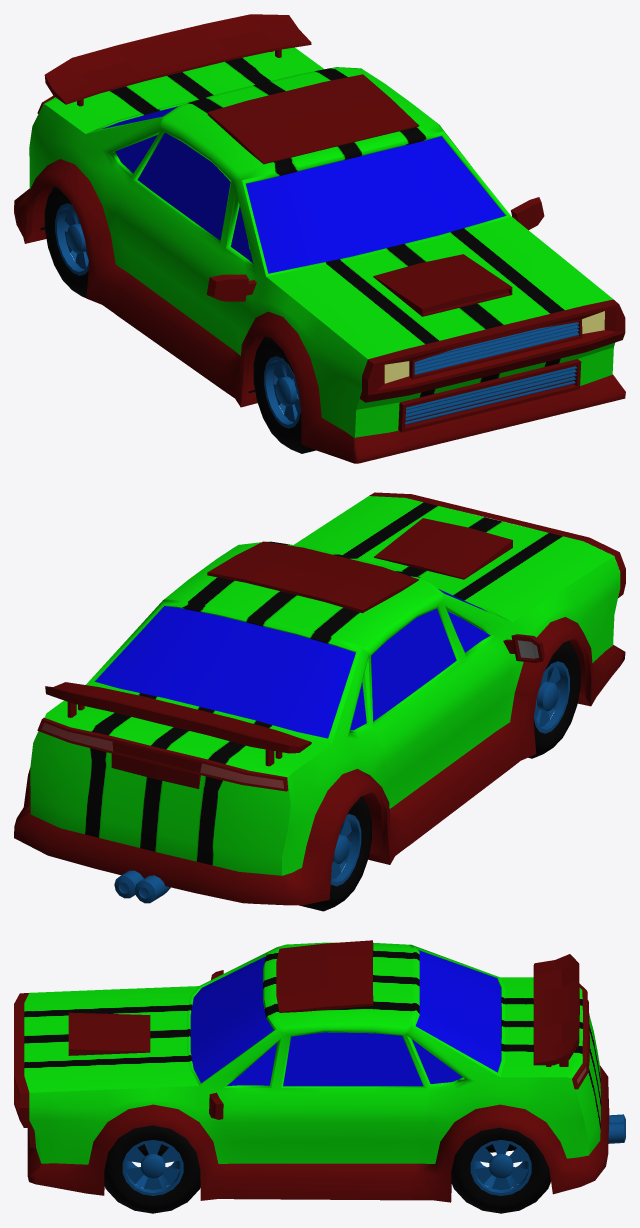
The model's file is Muscle Evolution3 DarkRed TrilineBlackGreen Blue BlueGrey.glb.
3 views of the same model, one above another, from view 1: azimuth 30°, elevation 25°; view 2: azimuth 150°, elevation 25°; view 3: azimuth 270°, elevation 25° (orthographic). The views are drawn at different scales.
Visible parts, largest first — view 1: evo3_body1_f1_dupl, evo3_sill3_f1_dupl, evo3_frontGlass_f1_dupl, evo3_rooftop3_f1_dupl, evo3_spoiler3_f1_dupl, evo3_frontBlockGrid3_f1_dupl, evo3_glasseBigR_f1_dupl, evo3_airtrap_front4_f1_dupl, evo3_blockgrid3_f1_dupl, evo3_gridfrontbot3_f1_dupl, evo3_gridfrontup3_f1_dupl, evo3_tire_rf1_f1_dupl (+6 smaller); view 2: evo3_body1_f1_dupl, evo3_sill3_f1_dupl, evo3_BackGlassGlass_f1_dupl, evo3_rooftop3_f1_dupl, evo3_spoiler3_f1_dupl, evo3_glasseBigR_f1_dupl, evo3_airtrap_front4_f1_dupl, evo3_blockbacklight_f1_dupl, evo3_rim_A_rf_f1_dupl, evo3_tire_rf1_f1_dupl, evo3_tire_rf_f1_dupl, evo3_frontBlockGrid3_f1_dupl (+6 smaller); view 3: evo3_body1_f1_dupl, evo3_sill3_f1_dupl, evo3_BackGlassGlass_f1_dupl, evo3_glasseBigL_f1_dupl, evo3_frontGlass_f1_dupl, evo3_rooftop3_f1_dupl, evo3_spoiler3_f1_dupl, evo3_tire_lf_f1_dupl, evo3_tire_lb_f1_dupl, evo3_airtrap_front4_f1_dupl, evo3_rim_A_lf_f1_dupl, evo3_rim_A_lb_f1_dupl (+5 smaller).
Part boxes in pixels (x1,y1,x2,y2): evo3_body1_f1_dupl: (29,47,614,438); evo3_sill3_f1_dupl: (14,159,625,463); evo3_frontGlass_f1_dupl: (246,136,505,273); evo3_rooftop3_f1_dupl: (207,74,419,164); evo3_spoiler3_f1_dupl: (44,14,311,106); evo3_frontBlockGrid3_f1_dupl: (360,299,625,402); evo3_glasseBigR_f1_dupl: (137,133,230,240); evo3_airtrap_front4_f1_dupl: (373,254,512,316); evo3_blockgrid3_f1_dupl: (398,359,581,432); evo3_gridfrontbot3_f1_dupl: (405,366,577,424); evo3_gridfrontup3_f1_dupl: (414,322,579,374); evo3_tire_rf1_f1_dupl: (253,336,315,453); evo3_body1_f1_dupl: (30,496,620,875); evo3_sill3_f1_dupl: (14,617,625,905); evo3_BackGlassGlass_f1_dupl: (95,606,355,738); evo3_rooftop3_f1_dupl: (207,541,418,613); evo3_spoiler3_f1_dupl: (45,682,311,766); evo3_glasseBigR_f1_dupl: (371,608,456,721); evo3_airtrap_front4_f1_dupl: (374,518,512,579); evo3_blockbacklight_f1_dupl: (37,718,288,791); evo3_rim_A_rf_f1_dupl: (533,661,569,733); evo3_tire_rf1_f1_dupl: (528,641,580,758); evo3_tire_rf_f1_dupl: (299,796,371,911); evo3_frontBlockGrid3_f1_dupl: (369,492,625,597); evo3_body1_f1_dupl: (24,942,601,1164); evo3_sill3_f1_dupl: (27,1065,609,1202); evo3_BackGlassGlass_f1_dupl: (415,950,501,1072); evo3_glasseBigL_f1_dupl: (283,1032,423,1086); evo3_frontGlass_f1_dupl: (190,956,273,1083); evo3_rooftop3_f1_dupl: (276,940,373,1012); evo3_spoiler3_f1_dupl: (533,954,579,1066); evo3_tire_lf_f1_dupl: (104,1125,200,1213); evo3_tire_lb_f1_dupl: (451,1127,550,1213); evo3_airtrap_front4_f1_dupl: (68,1012,150,1055); evo3_rim_A_lf_f1_dupl: (122,1140,183,1195); evo3_rim_A_lb_f1_dupl: (470,1140,531,1195).
Size of the model in its own units: 177 by 116 by 335.
Materials: 8 (1 with a texture image).
